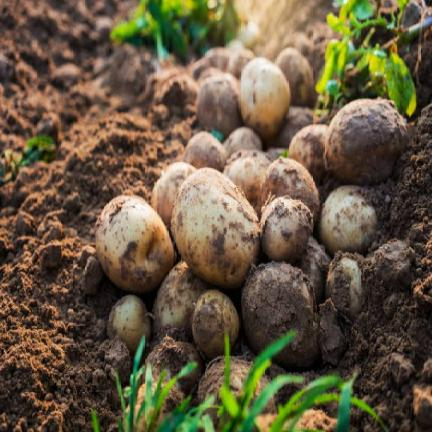potato: (172, 168, 258, 288), (241, 262, 319, 367), (95, 196, 173, 292), (325, 99, 407, 184), (198, 356, 275, 429), (129, 359, 191, 428), (153, 262, 207, 337), (239, 58, 289, 138), (319, 185, 376, 253), (262, 157, 319, 223), (260, 196, 313, 262), (192, 290, 239, 358), (224, 150, 270, 215), (152, 162, 196, 228), (197, 74, 241, 136), (325, 254, 363, 320), (108, 295, 150, 354), (288, 124, 328, 182), (275, 47, 313, 104), (298, 236, 330, 303), (183, 131, 227, 170), (223, 127, 262, 156), (227, 48, 255, 78), (203, 47, 232, 69), (237, 21, 259, 47), (198, 67, 224, 84), (191, 58, 210, 80), (265, 147, 286, 161), (226, 39, 244, 50)
